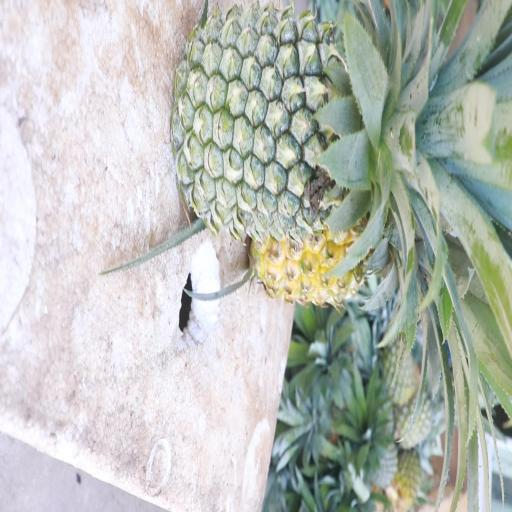Pineapple - v8 v1: (249, 233, 457, 376)
